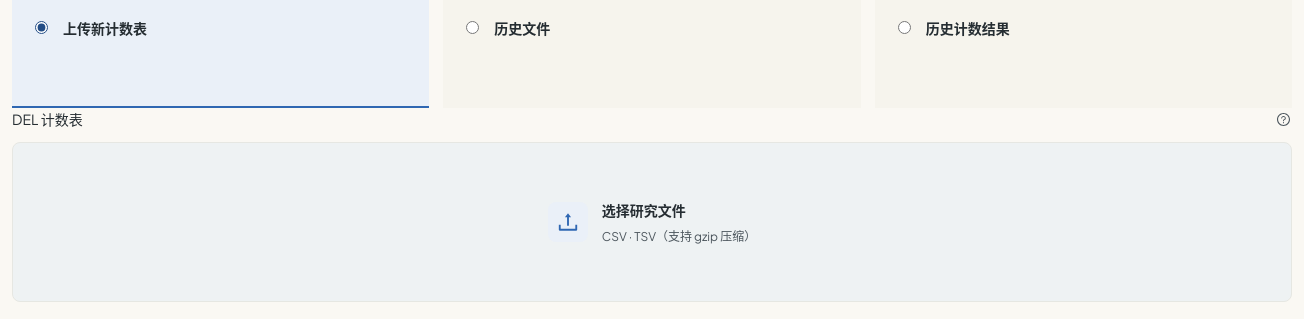
Scenario: offers one source question and keeps historical bytes as the selected material in zh
Check: the radio button labelled "上传新计数表" is checked, box [35,21,48,34]
Click the radio button labelled "历史文件" at (473, 28), box [466,21,479,34]
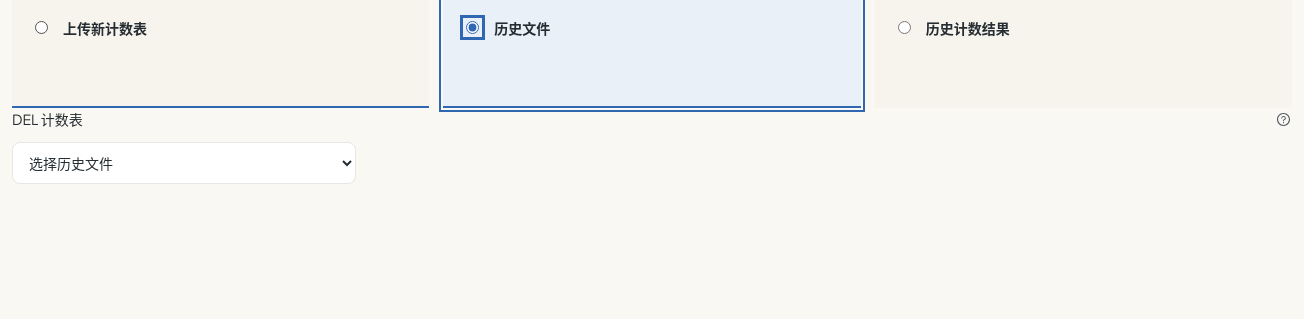
Select "DEL target and reference counts.csv · 0.0 MB" in the dropdown named "DEL 计数表" at (184, 163), box [12,142,356,184]
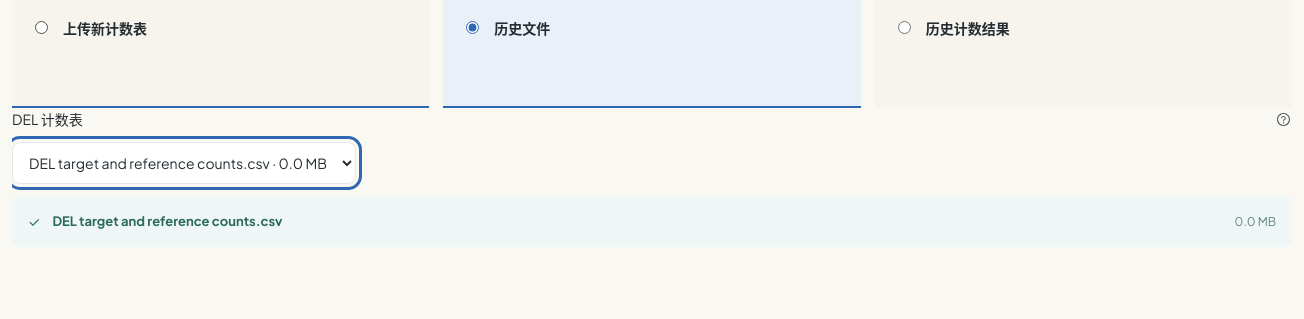
Check: the text "DEL target and reference counts.csv" is shown, box [52,211,282,232]
Click the radio button labelled "历史计数结果" at (904, 28), box [898,21,911,34]
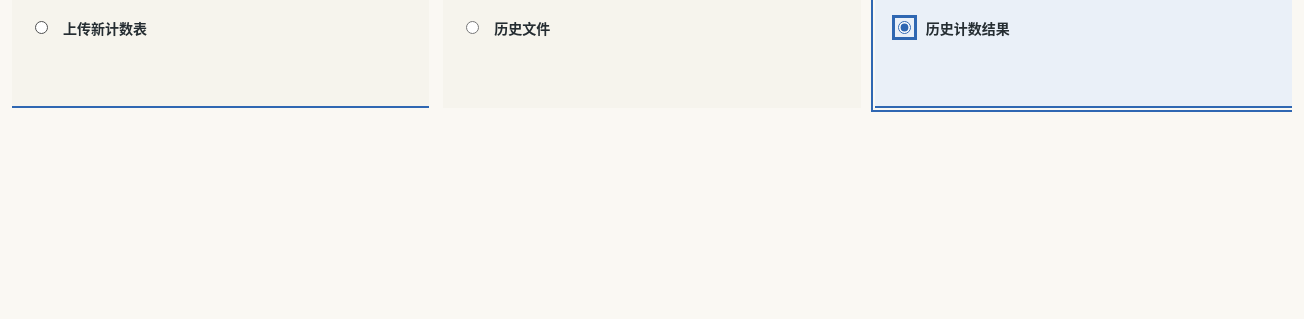
Check: the dropdown is gone
Check: the text "DEL target and reference counts.csv" is gone
